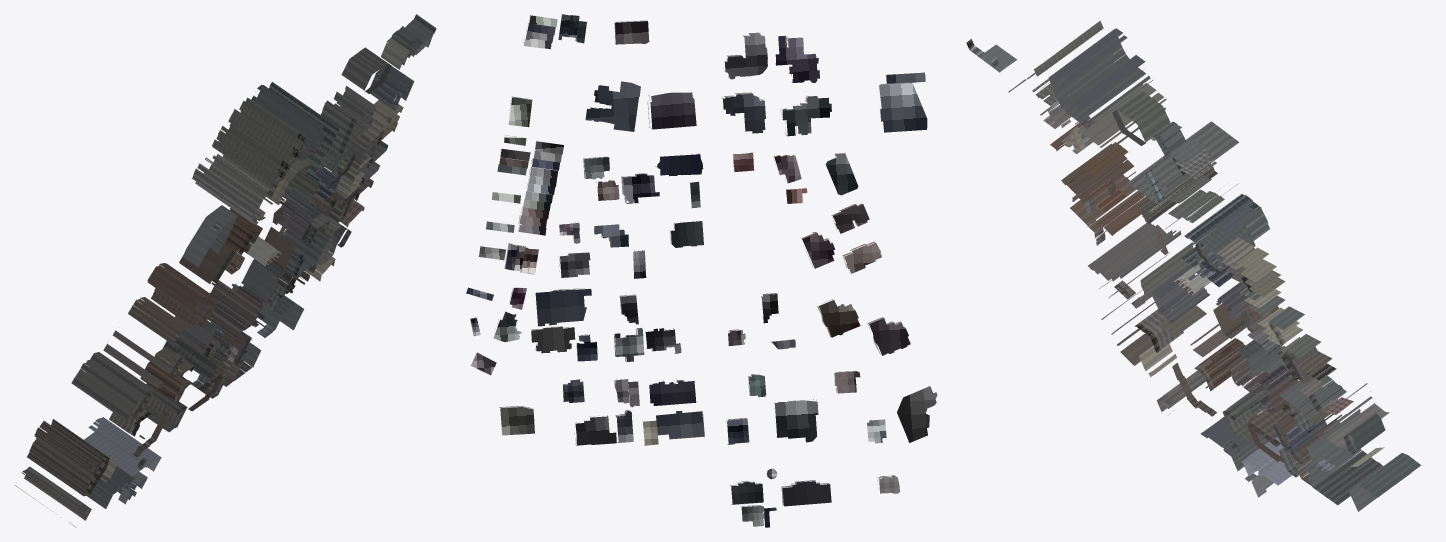
Rendered from tile_LOD3_r2_c5.glb.
3 views of the same model, side by side, from view 1: azimuth 30°, elevation 25°; view 2: azimuth 150°, elevation 25°; view 3: azimuth 270°, elevation 25° (orthographic). The views are drawn at different scales.
Bounding box in the file's own units: 316 × 327 × 273.
387 materials, 386 textured.
